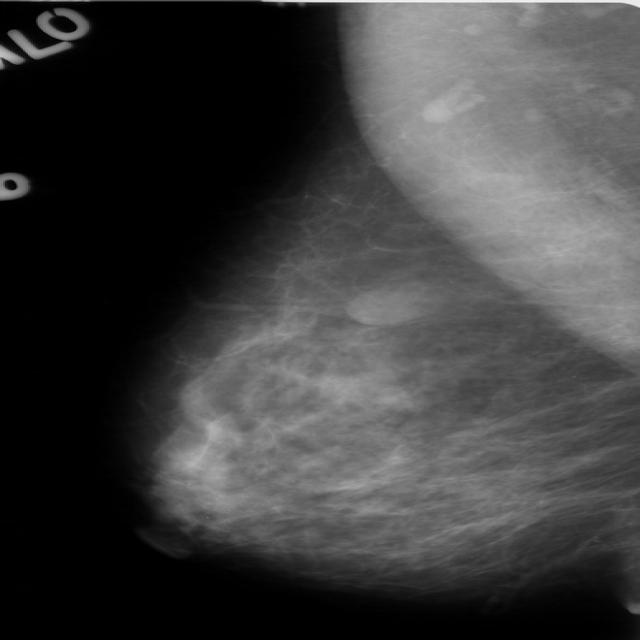tumour: (343, 284, 442, 324)
